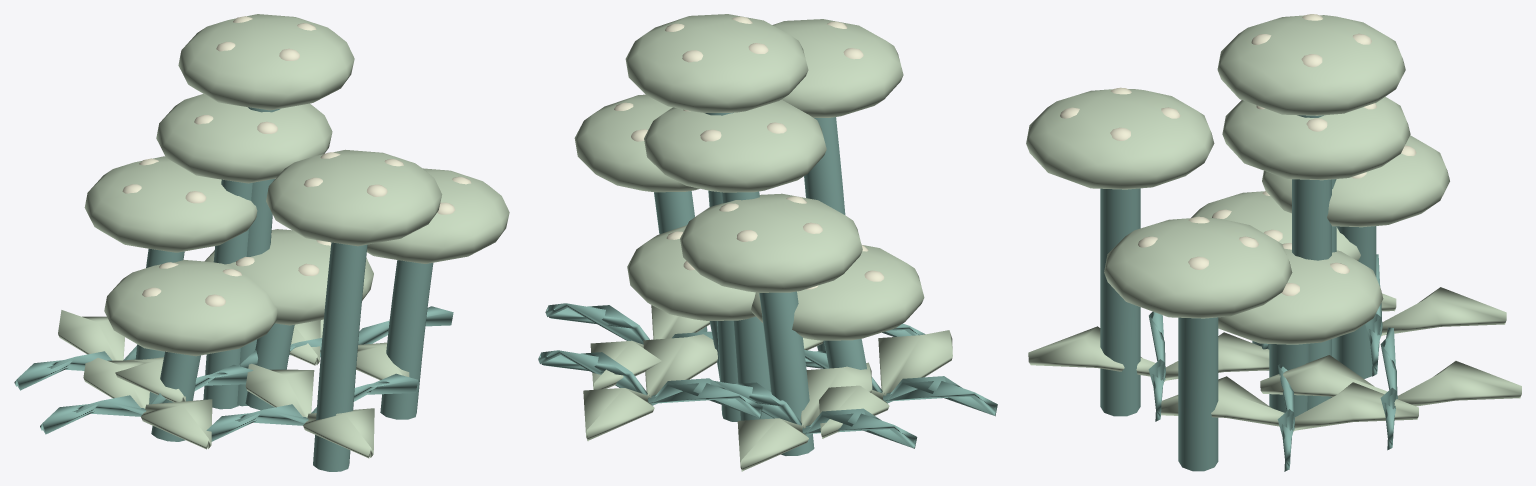
File: bio_spore_fungus_10_far.glb
The picture shows the model from 3 angles, left to right: view 1: azimuth 30°, elevation 25°; view 2: azimuth 150°, elevation 25°; view 3: azimuth 270°, elevation 25°; orthographic projection. The views are drawn at different scales.
Visible parts, largest first — view 1: Thick umbrella cap.002, Thick umbrella cap.003, Thick umbrella cap.004, Thick umbrella cap.001, Thick umbrella cap.006, Curved stipe.002, Thick umbrella cap.005, Thick umbrella cap, Curved stipe.005, Low buttress leaf.009, Low buttress leaf.017, Low buttress leaf.005 (+14 smaller); view 2: Thick umbrella cap.003, Thick umbrella cap.001, Thick umbrella cap.006, Thick umbrella cap.002, Thick umbrella cap.004, Thick umbrella cap, Thick umbrella cap.005, Low buttress leaf.013, Low buttress leaf.017, Curved stipe.001, Low buttress leaf.005, Low buttress leaf.012 (+11 smaller); view 3: Thick umbrella cap.005, Thick umbrella cap.002, Thick umbrella cap.003, Thick umbrella cap.006, Thick umbrella cap, Thick umbrella cap.001, Curved stipe.002, Curved stipe.005, Low buttress leaf.013, Low buttress leaf.001, Low buttress leaf.009, Curved stipe.003 (+11 smaller).
Boxes of the visible parts, x1=… form: Thick umbrella cap.002: x1=266, y1=149, x2=442, y2=246; Thick umbrella cap.003: x1=178, y1=14, x2=354, y2=110; Thick umbrella cap.004: x1=104, y1=259, x2=277, y2=356; Thick umbrella cap.001: x1=84, y1=156, x2=257, y2=252; Thick umbrella cap.006: x1=156, y1=94, x2=332, y2=183; Curved stipe.002: x1=313, y1=242, x2=367, y2=471; Thick umbrella cap.005: x1=367, y1=168, x2=509, y2=263; Thick umbrella cap: x1=205, y1=229, x2=373, y2=325; Curved stipe.005: x1=380, y1=260, x2=433, y2=419; Low buttress leaf.009: x1=245, y1=363, x2=374, y2=458; Low buttress leaf.017: x1=83, y1=354, x2=212, y2=449; Low buttress leaf.005: x1=58, y1=310, x2=185, y2=402; Thick umbrella cap.003: x1=625, y1=14, x2=808, y2=112; Thick umbrella cap.001: x1=680, y1=193, x2=862, y2=292; Thick umbrella cap.006: x1=644, y1=100, x2=826, y2=192; Thick umbrella cap.002: x1=772, y1=19, x2=903, y2=117; Thick umbrella cap.004: x1=751, y1=245, x2=924, y2=340; Thick umbrella cap: x1=627, y1=225, x2=755, y2=320; Thick umbrella cap.005: x1=574, y1=94, x2=699, y2=192; Low buttress leaf.013: x1=583, y1=334, x2=717, y2=441; Low buttress leaf.017: x1=819, y1=330, x2=952, y2=438; Curved stipe.001: x1=759, y1=291, x2=814, y2=455; Low buttress leaf.005: x1=737, y1=362, x2=872, y2=471; Low buttress leaf.012: x1=538, y1=350, x2=762, y2=418; Thick umbrella cap.005: x1=1104, y1=218, x2=1292, y2=318; Thick umbrella cap.002: x1=1026, y1=89, x2=1214, y2=189; Thick umbrella cap.003: x1=1217, y1=15, x2=1405, y2=115; Thick umbrella cap.006: x1=1222, y1=96, x2=1410, y2=180; Thick umbrella cap: x1=1218, y1=248, x2=1383, y2=344; Thick umbrella cap.001: x1=1262, y1=135, x2=1449, y2=227; Curved stipe.002: x1=1100, y1=188, x2=1140, y2=416; Curved stipe.005: x1=1178, y1=317, x2=1218, y2=471; Low buttress leaf.013: x1=1260, y1=355, x2=1521, y2=406; Low buttress leaf.001: x1=1161, y1=376, x2=1418, y2=431; Low buttress leaf.009: x1=1028, y1=326, x2=1269, y2=381; Curved stipe.003: x1=1292, y1=115, x2=1331, y2=410.
Size of the model in its own units: 2.23 by 1.82 by 2.1.
